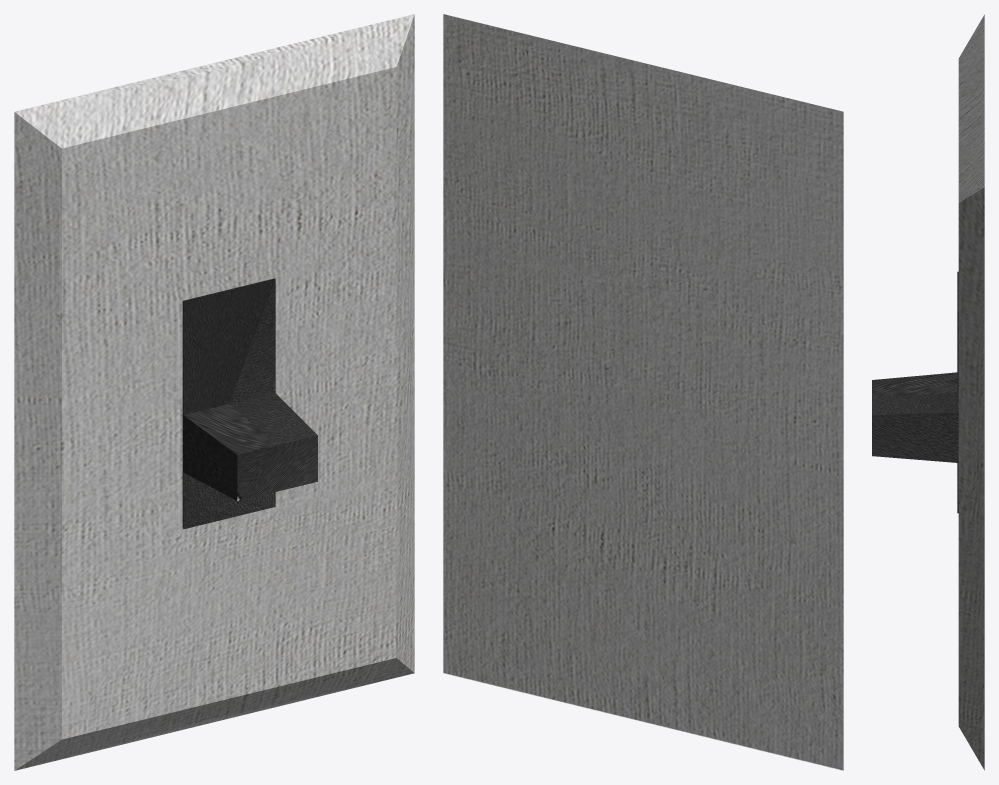
Rendered from lightSwitch.obj.
The picture shows the model from 3 angles, left to right: view 1: azimuth 30°, elevation 25°; view 2: azimuth 150°, elevation 25°; view 3: azimuth 270°, elevation 25°; orthographic projection. The views are drawn at different scales.
Bounding box in the file's own units: 1115 × 1754 × 307.
2 materials, 2 textured.
